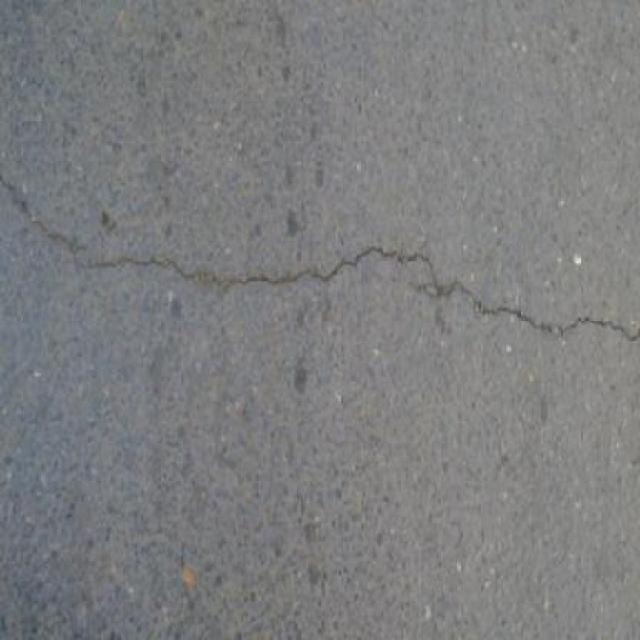GRIETA: (0, 177, 639, 341)
